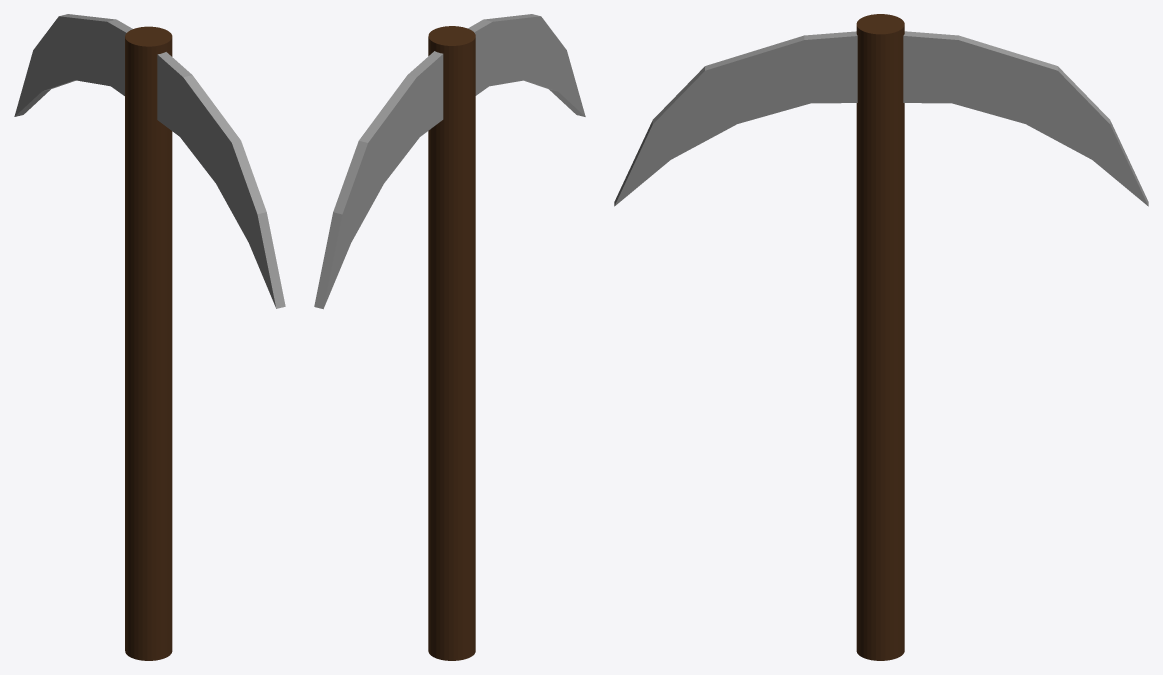
File: Iron Pickaxe.fbx
3 views of the same model, side by side, from view 1: azimuth 30°, elevation 25°; view 2: azimuth 150°, elevation 25°; view 3: azimuth 270°, elevation 25° (orthographic).
Parts seen in each view (by area): view 1: Cylinder.020; view 2: Cylinder.020; view 3: Cylinder.020.
Boxes of the visible parts, box(x1,y1,x2,y2) form: Cylinder.020: box(14, 14, 285, 660); Cylinder.020: box(314, 14, 585, 660); Cylinder.020: box(614, 14, 1148, 660).
Size of the model in its own units: 3.49 by 50 by 38.66.
